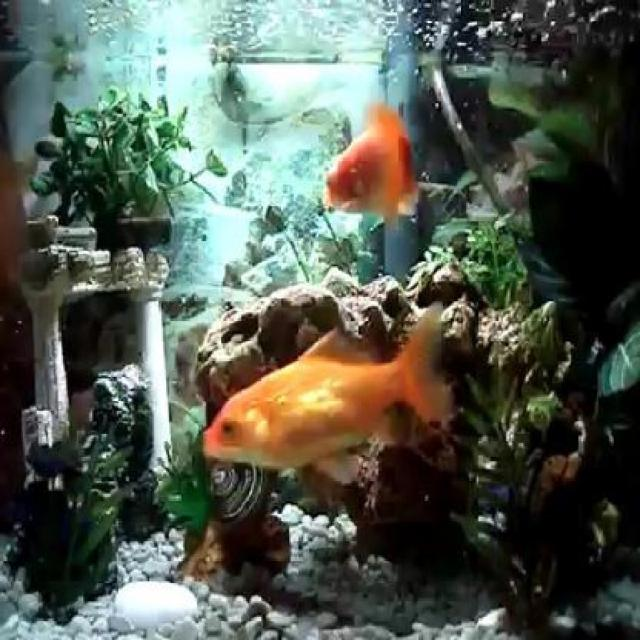GoldFish: (200, 296, 448, 478), (318, 101, 416, 222)
